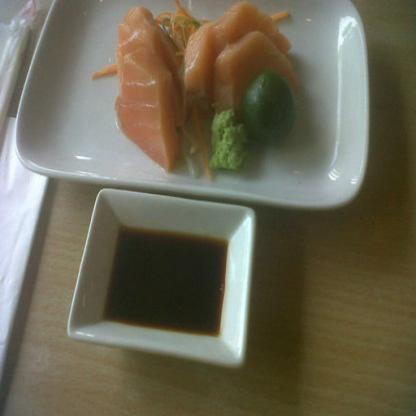salmon: (179, 0, 300, 110), (114, 10, 177, 164)
